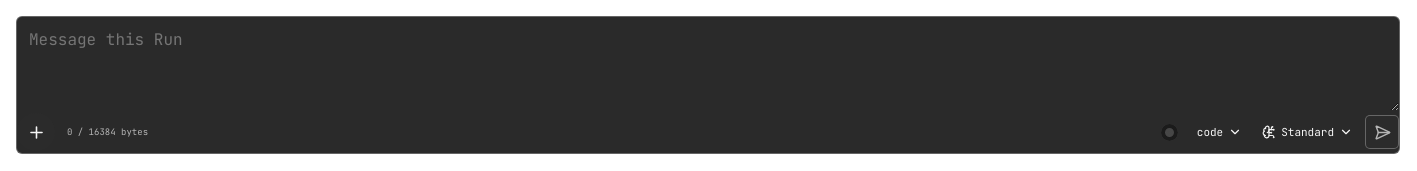
it: SessionComposer › starts a new Run, commits the message, and executes one model turn
Type "Inspect the repository" into the text box named "Message current Run" at coordinates (708, 64), box [17,17,1399,111]
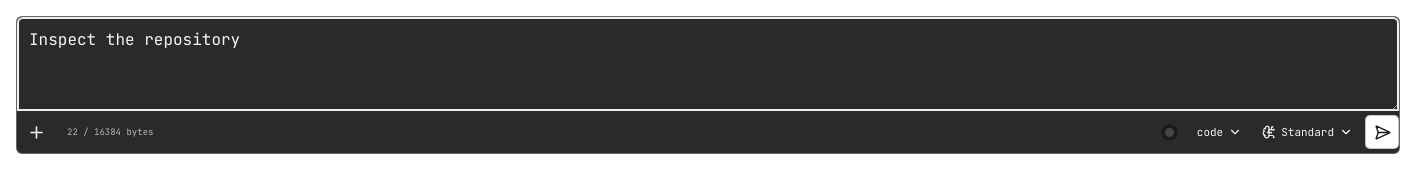
Click the button named "Queue message" at coordinates (1382, 132), box [1365,115,1399,149]
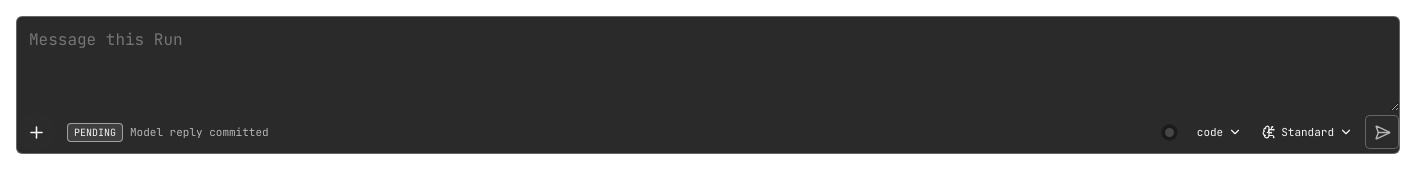
Expected: the text "Model reply committed" is shown, [130,125,269,139]
